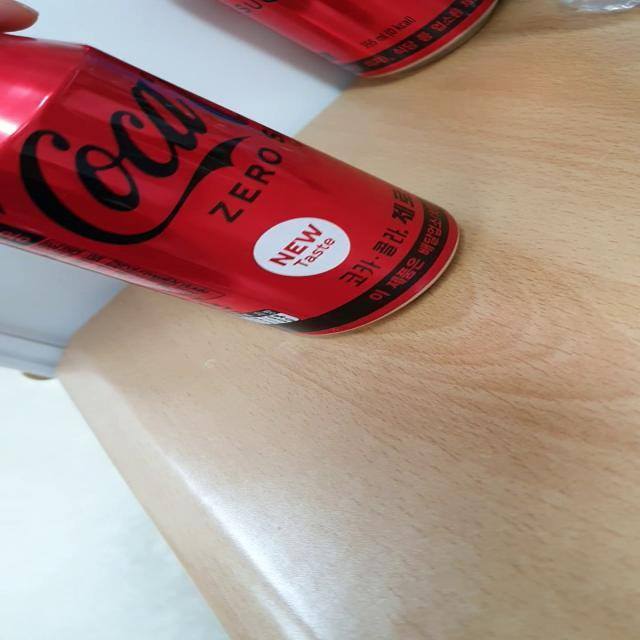coca-cola: (1, 26, 472, 342)
